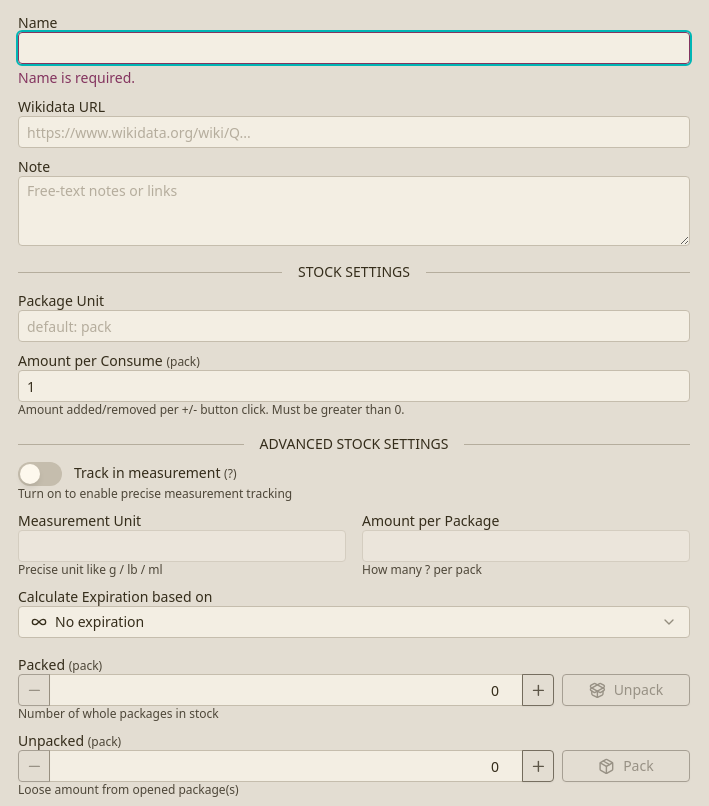
Scenario: ItemForm — validation errors on page load › shows measurement unit error when tracking is on but unit is empty
Click the switch named "track in measurement": point(40, 474) [18,462,62,486]
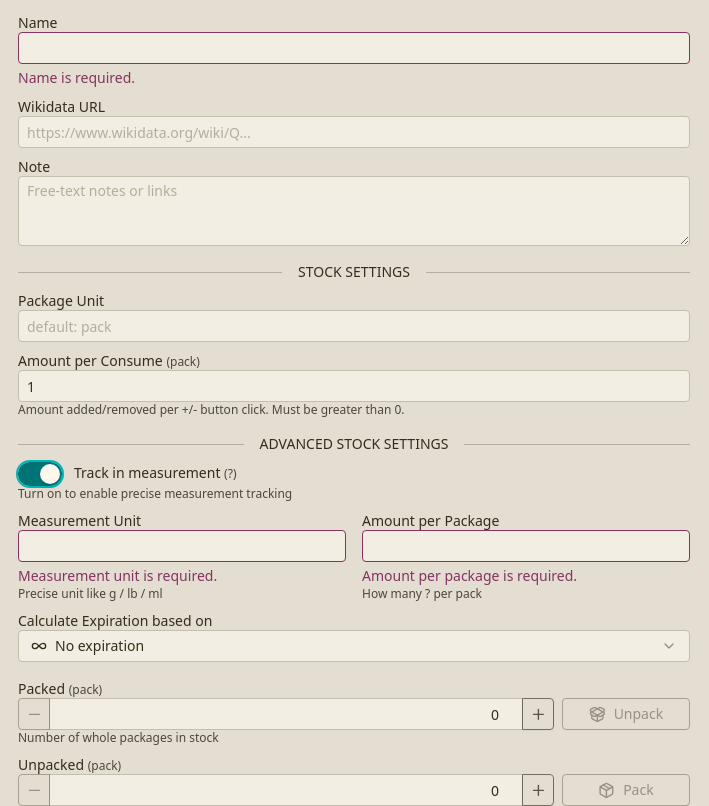
Expected: the text "Measurement unit is required." is shown, [18,566,217,585]
